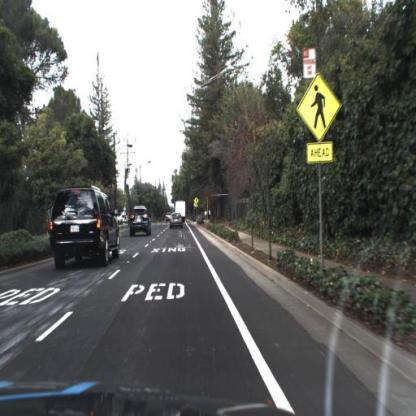car: (48, 187, 122, 270), (128, 203, 152, 239), (170, 210, 186, 230), (165, 211, 174, 224)
truck: (176, 199, 189, 225)
